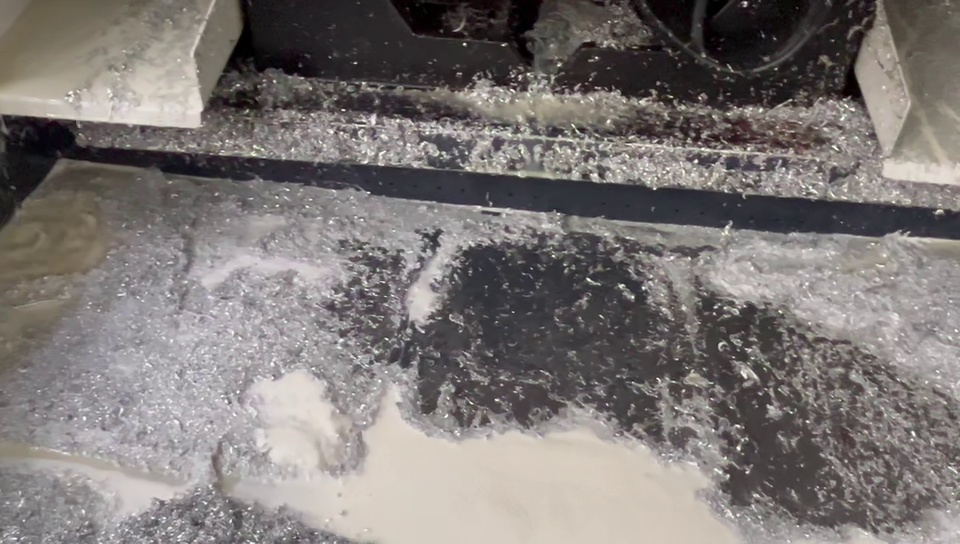iron_scrap: (218, 70, 875, 201), (17, 256, 275, 480), (708, 235, 956, 350), (111, 169, 428, 251), (281, 257, 381, 404), (121, 488, 353, 543), (2, 469, 102, 542)
